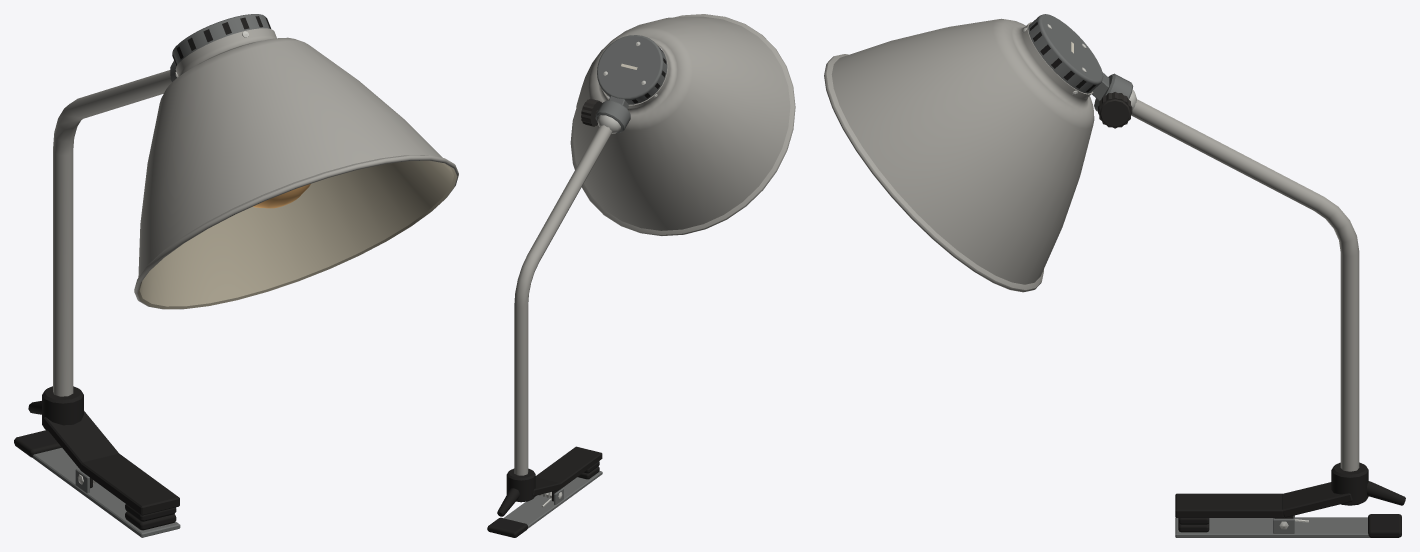
File: clamp-lamp-c551df95553d.glb
3 views of the same model, side by side, from view 1: azimuth 30°, elevation 25°; view 2: azimuth 150°, elevation 25°; view 3: azimuth 270°, elevation 25° (orthographic). The views are drawn at different scales.
Parts seen in each view (by area): view 1: brushed, plastic-light, enamel-black, metal, rubber, emissive-warm; view 2: brushed, metal, enamel-black, rubber, chrome, plastic-dark; view 3: brushed, metal, enamel-black, rubber, plastic-dark.
Boxes of the visible parts, box(x1,y1,x2,y2) form: brushed: box(53, 28, 458, 396); plastic-light: box(138, 160, 457, 309); enamel-black: box(42, 386, 179, 515); metal: box(32, 14, 271, 537); rubber: box(14, 16, 270, 530); emissive-warm: box(253, 184, 310, 208); brushed: box(514, 14, 795, 475); metal: box(503, 35, 667, 528); enamel-black: box(506, 446, 602, 502); rubber: box(487, 47, 666, 537); chrome: box(539, 41, 657, 507); plastic-dark: box(581, 98, 601, 126); brushed: box(824, 18, 1359, 471); metal: box(1028, 14, 1370, 537); enamel-black: box(1175, 462, 1368, 518); rubber: box(1030, 17, 1405, 537); plastic-dark: box(1098, 92, 1132, 128).
Bounding box in the file's own units: 0.199 × 0.3623 × 0.3745.
